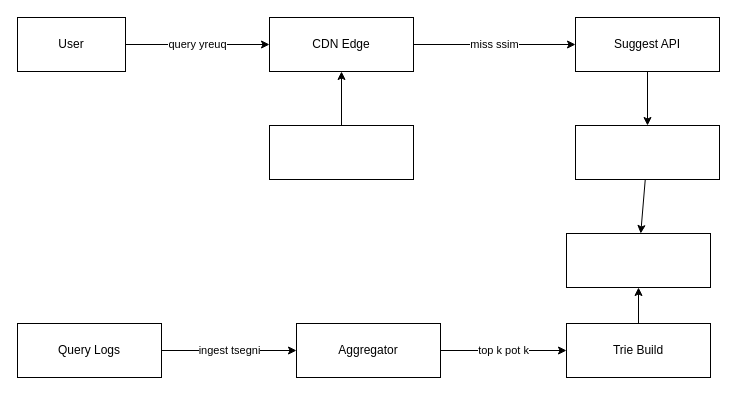
Some shapes in this 737 by 395 pixel diagram are drawn without their labels. Each missing label, with the centre of its shape:
"Edge Cache" belongs at [341,152].
"Trie Server" belongs at [647,152].
"Trie Store" belongs at [638,260].
